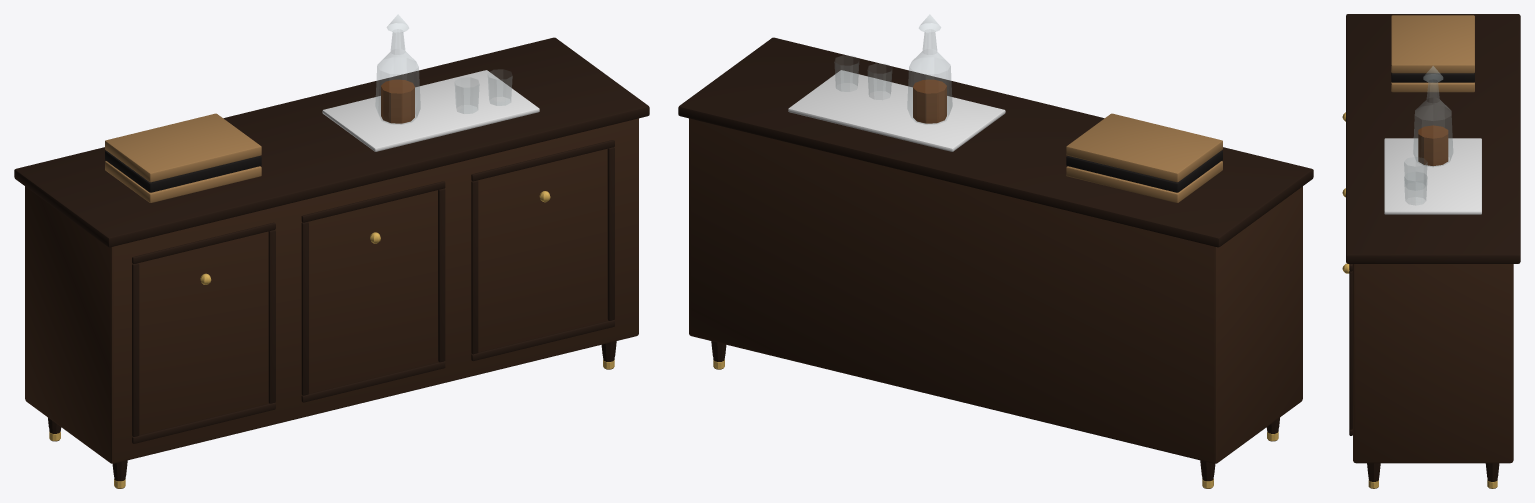
Rendered from meridian_credenza.glb.
3 views of the same model, side by side, from view 1: azimuth 30°, elevation 25°; view 2: azimuth 150°, elevation 25°; view 3: azimuth 270°, elevation 25° (orthographic). The views are drawn at different scales.
Visible parts, largest first — view 1: meridian_credenza; view 2: meridian_credenza; view 3: meridian_credenza.
Boxes of the visible parts, box(x1,y1,x2,y2) form: meridian_credenza: box(14, 14, 649, 488); meridian_credenza: box(678, 14, 1313, 488); meridian_credenza: box(1342, 14, 1520, 488).
Size of the model in its own units: 1.64 by 1.08 by 0.51.
